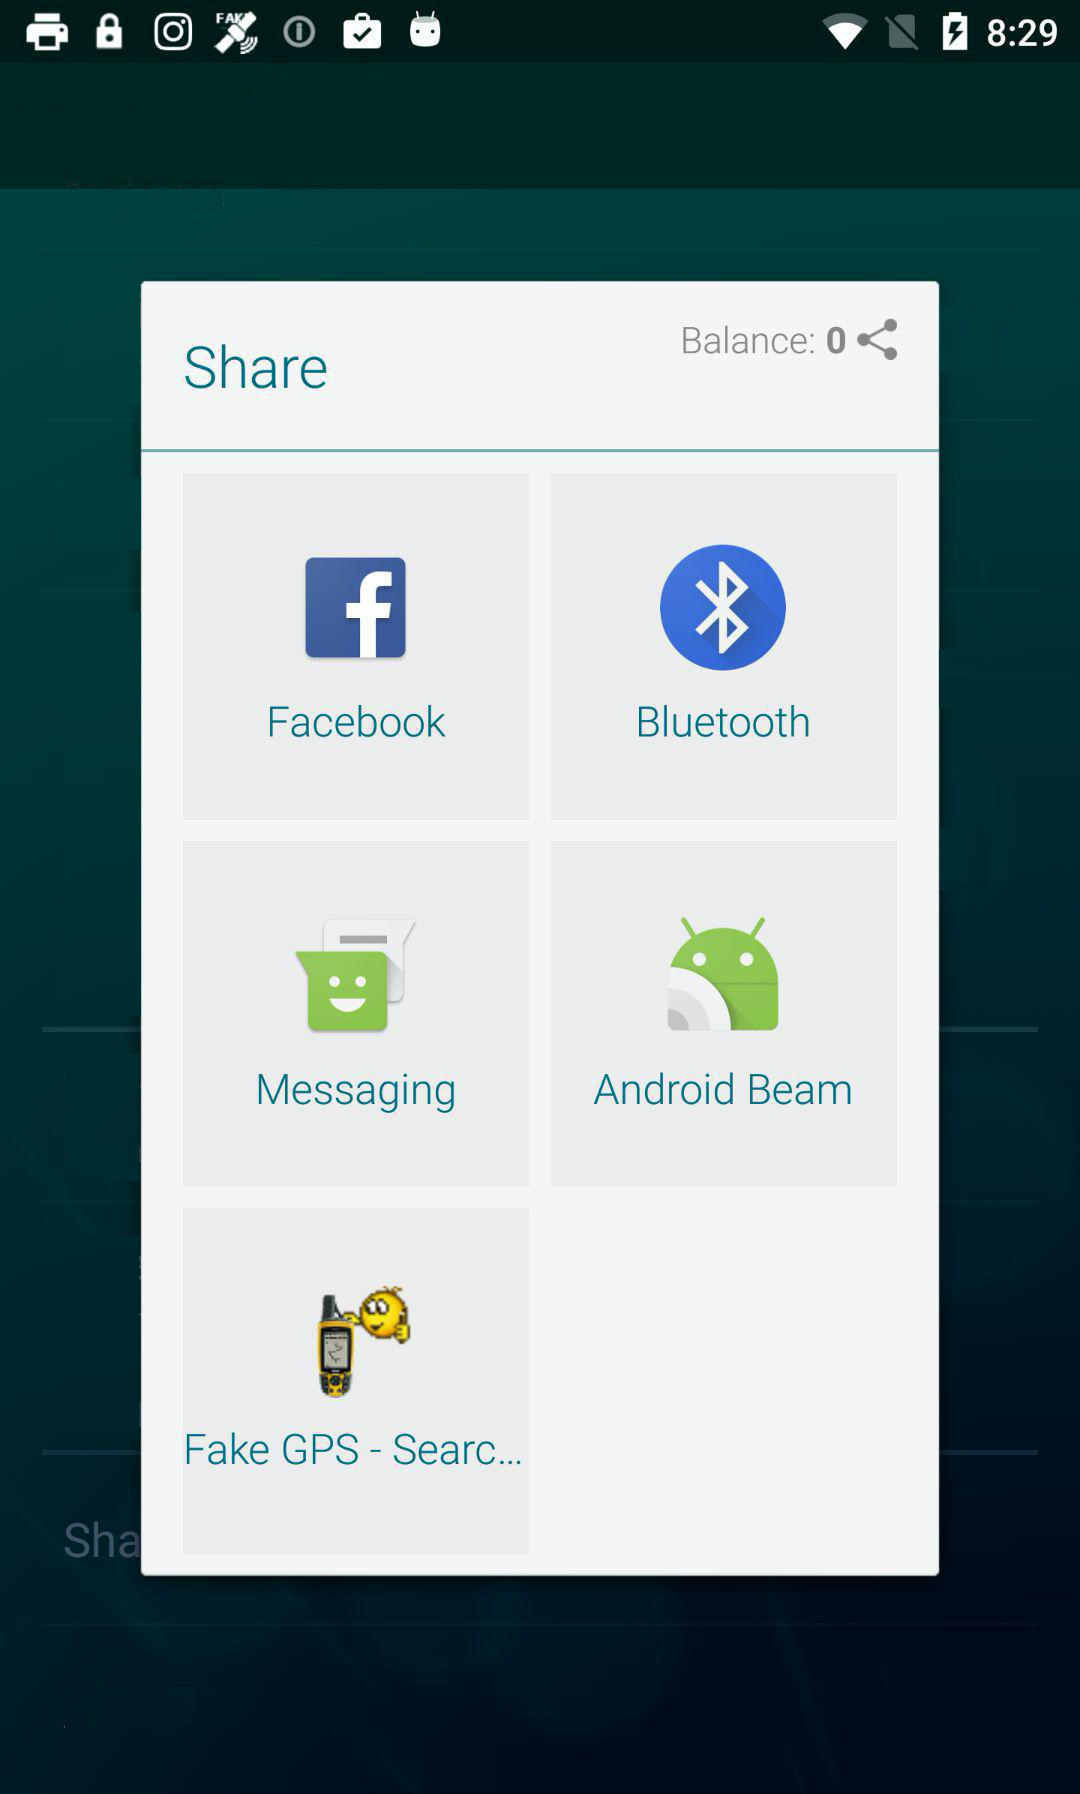Icon: (659, 545, 787, 674), (305, 557, 407, 660), (856, 318, 899, 361)
Image: (295, 918, 419, 1034), (667, 915, 780, 1032), (316, 1284, 413, 1401)
Modal: (141, 281, 940, 1576)
Text: (186, 1431, 521, 1467), (593, 1071, 852, 1107), (258, 1073, 456, 1115), (186, 343, 328, 391), (269, 704, 448, 739), (638, 704, 810, 739), (682, 325, 815, 358), (826, 325, 846, 355)
UpperTaskBar: (1, 1, 1080, 64)
